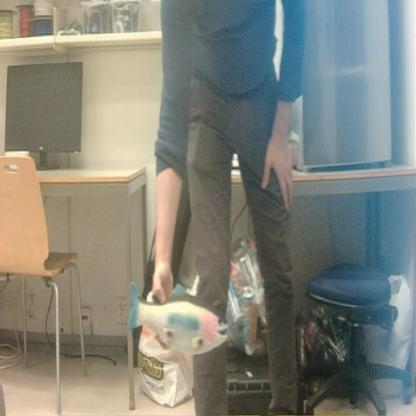rubberfish: (124, 272, 230, 358)
